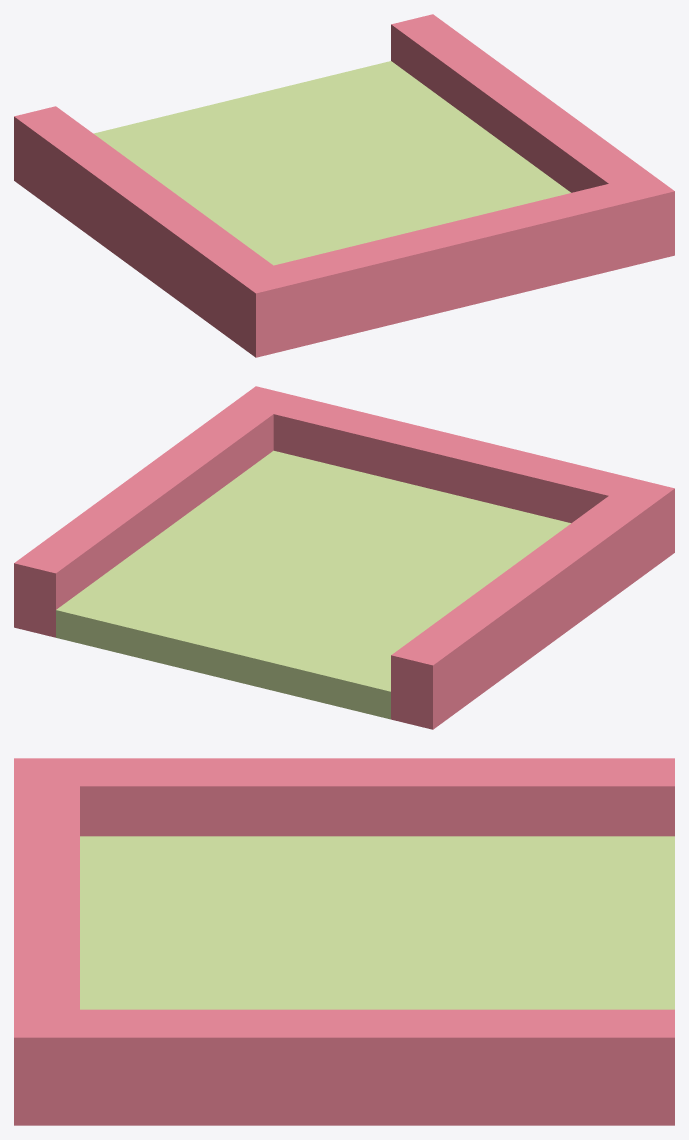
Rendered from end.fbx.
3 renders of one model, top to bottom at view 1: azimuth 30°, elevation 25°; view 2: azimuth 150°, elevation 25°; view 3: azimuth 270°, elevation 25°, orthographic. The views are drawn at different scales.
Parts seen in each view (by area): view 1: end; view 2: end; view 3: end.
Boxes of the visible parts, x1,y1,x2,y2 form: end: (14, 14, 674, 357); end: (14, 386, 674, 729); end: (14, 758, 674, 1125).
Size of the model in its own units: 99.99 by 14.67 by 99.99.
